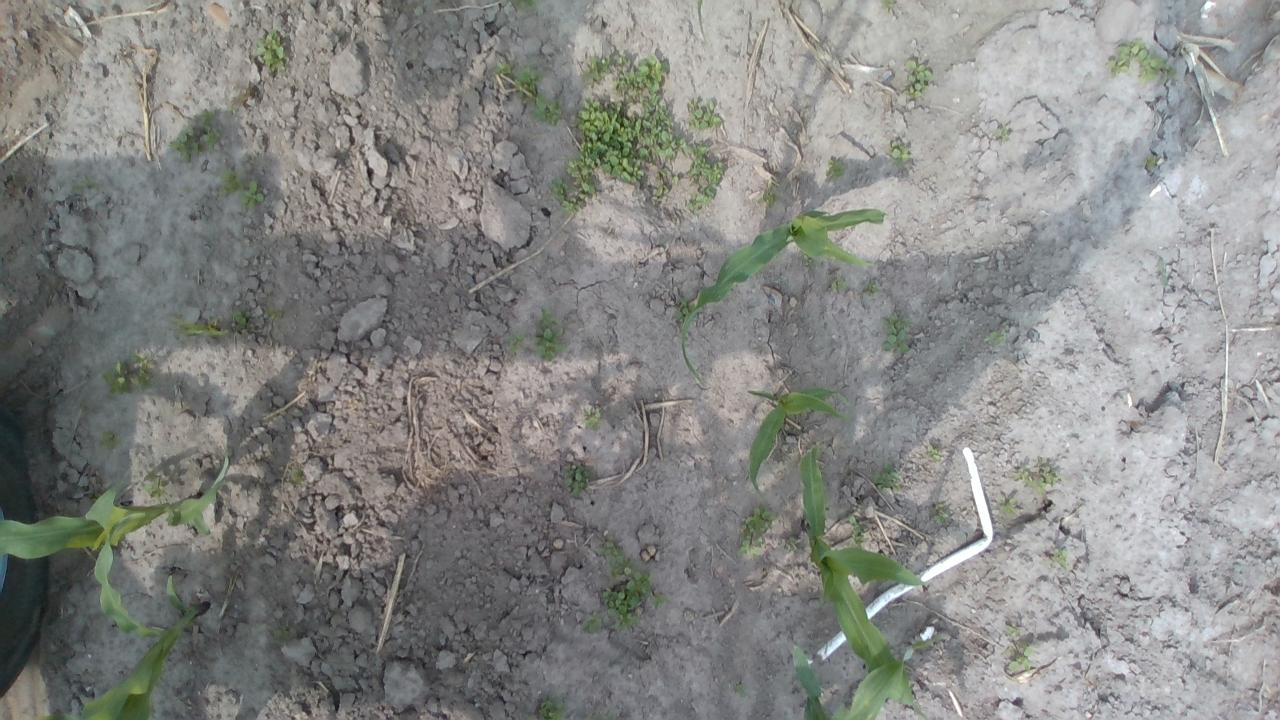Maize: (679, 206, 890, 390), (3, 538, 215, 718), (796, 442, 928, 710), (3, 455, 237, 562), (746, 388, 844, 492), (789, 642, 908, 716)
Weeds: (548, 49, 726, 208), (588, 534, 656, 636), (489, 60, 563, 132), (1107, 44, 1176, 84), (175, 308, 258, 339), (100, 352, 154, 394), (168, 117, 217, 158), (736, 509, 776, 555), (886, 310, 914, 360), (1014, 463, 1060, 492), (225, 171, 262, 206), (250, 35, 284, 73), (1006, 632, 1032, 676), (536, 315, 560, 362), (904, 62, 934, 98), (564, 458, 592, 496), (888, 130, 911, 167), (534, 696, 568, 720), (875, 460, 901, 488), (848, 514, 868, 549), (582, 402, 604, 431), (930, 506, 952, 534), (823, 158, 847, 182), (998, 493, 1020, 516), (755, 190, 783, 208), (985, 324, 1007, 346), (996, 124, 1016, 144), (1053, 548, 1072, 566), (1145, 156, 1164, 174), (925, 444, 943, 462), (506, 334, 522, 350)
